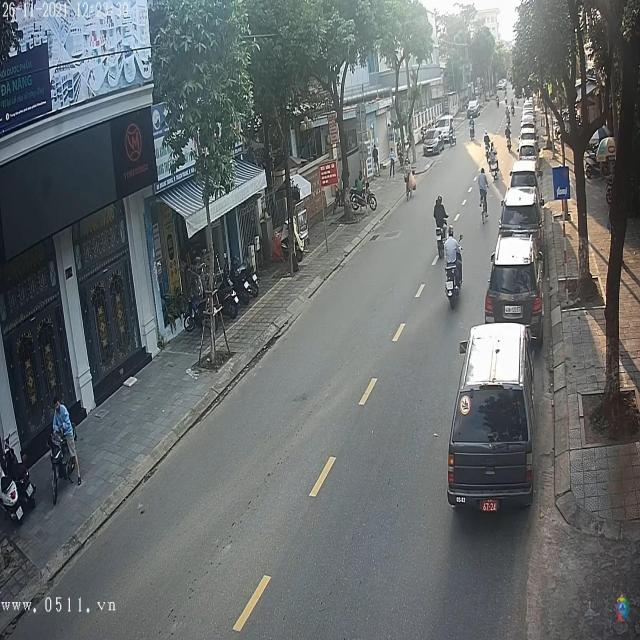car: (448, 324, 534, 510), (484, 234, 542, 330), (499, 188, 543, 237), (424, 125, 442, 156)
motorcycle: (444, 236, 463, 302), (434, 224, 448, 260)
